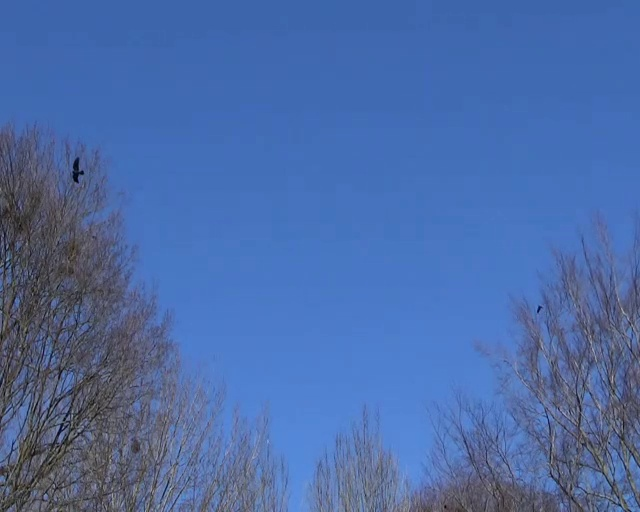BIRD: (315, 225, 324, 238)
